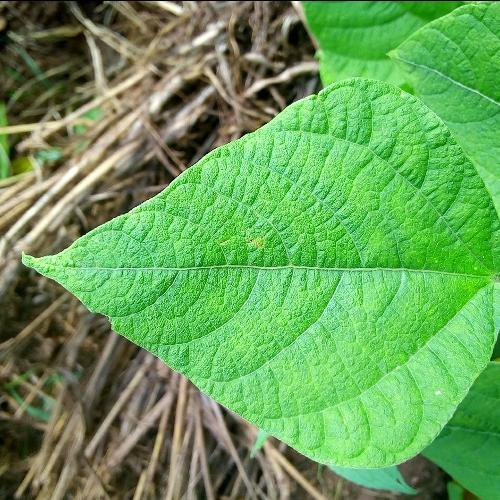sehat: (172, 87, 467, 372), (136, 223, 263, 393)
